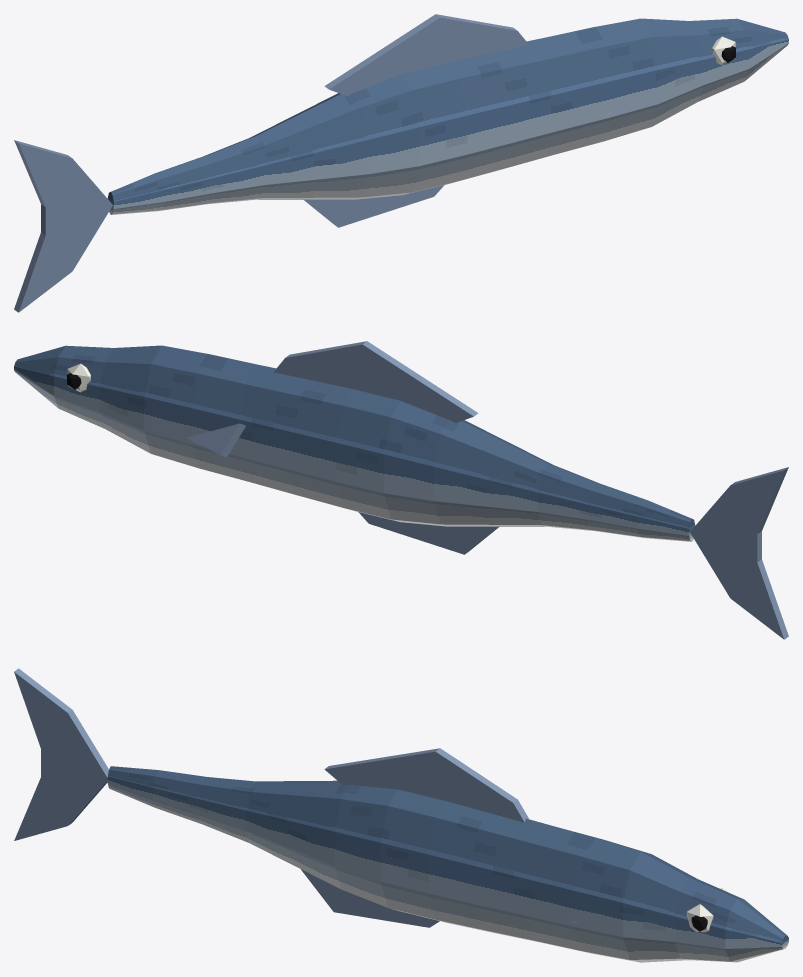
The model's file is giant_herring.glb.
3 renders of one model, top to bottom at view 1: azimuth 30°, elevation 25°; view 2: azimuth 150°, elevation 25°; view 3: azimuth 330°, elevation 25°, orthographic.
Parts seen in each view (by area): view 1: fish_giant_herring; view 2: fish_giant_herring; view 3: fish_giant_herring.
Boxes of the visible parts, <box> form: fish_giant_herring: <box>14,14,788,312</box>; fish_giant_herring: <box>14,341,788,639</box>; fish_giant_herring: <box>14,668,788,962</box>.
Bounding box in the file's own units: 1.14 × 0.2725 × 0.1267.
4 materials, 1 textured.
